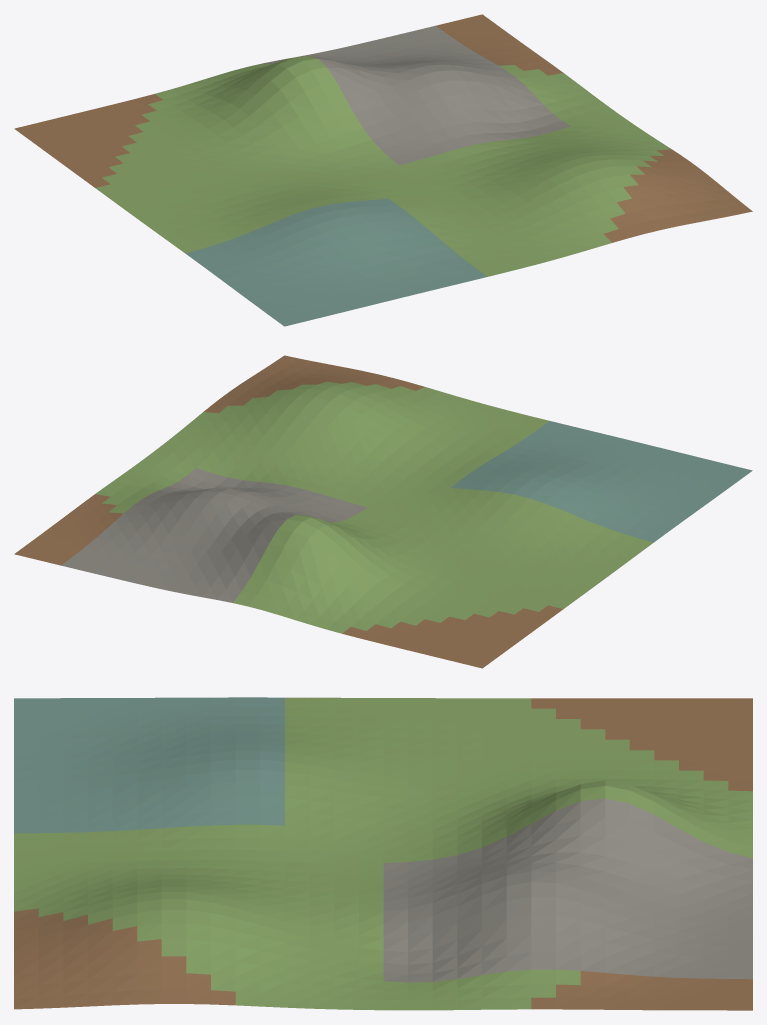
Rendered from hero_valley.glb.
3 views of the same model, one above another, from view 1: azimuth 30°, elevation 25°; view 2: azimuth 150°, elevation 25°; view 3: azimuth 270°, elevation 25° (orthographic). The views are drawn at different scales.
Parts seen in each view (by area): view 1: HeroValleyTerrain; view 2: HeroValleyTerrain; view 3: HeroValleyTerrain.
Part boxes in pixels (x1,y1,x2,y2): HeroValleyTerrain: (14,14,752,326); HeroValleyTerrain: (14,355,752,668); HeroValleyTerrain: (14,697,752,1010).
Bounding box in the file's own units: 60 × 6.7 × 60.
